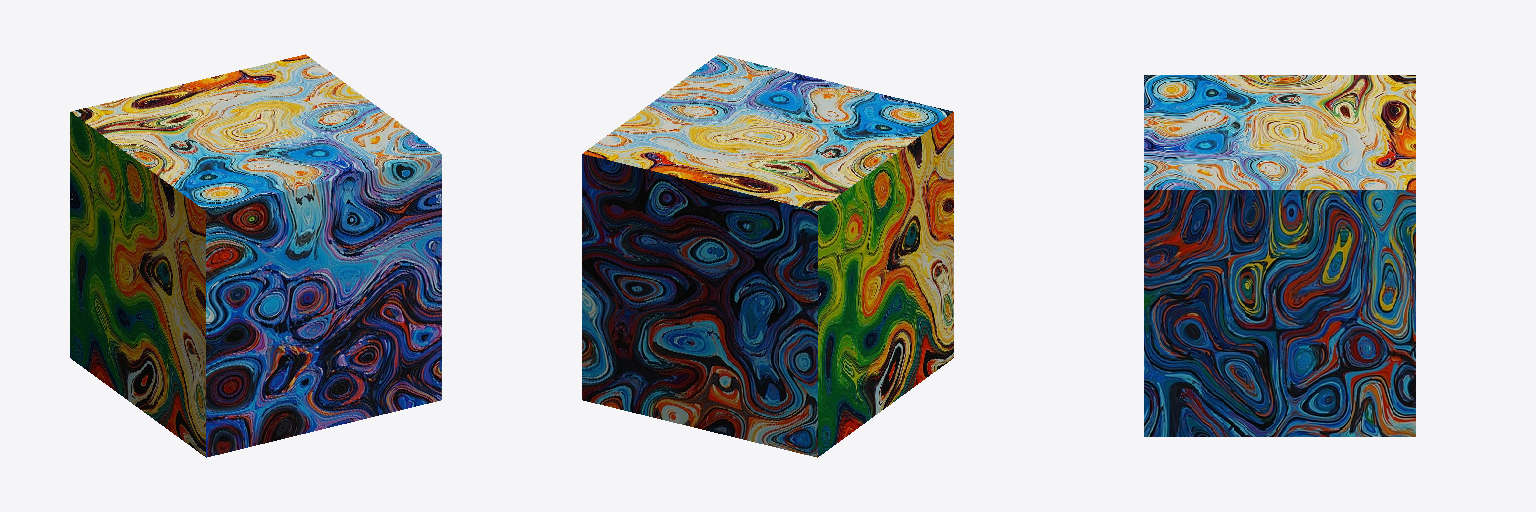
The picture shows the model from 3 angles: view 1: azimuth 30°, elevation 25°; view 2: azimuth 150°, elevation 25°; view 3: azimuth 270°, elevation 25°; orthographic projection.
Visible parts, largest first — view 1: UgliPabi_Cube; view 2: UgliPabi_Cube; view 3: UgliPabi_Cube.
Boxes of the visible parts, x1=… form: UgliPabi_Cube: x1=70, y1=54, x2=441, y2=457; UgliPabi_Cube: x1=582, y1=54, x2=953, y2=457; UgliPabi_Cube: x1=1144, y1=75, x2=1415, y2=436.
Size of the model in its own units: 0.4232 by 0.4232 by 0.4232.
1 materials, 1 textured.